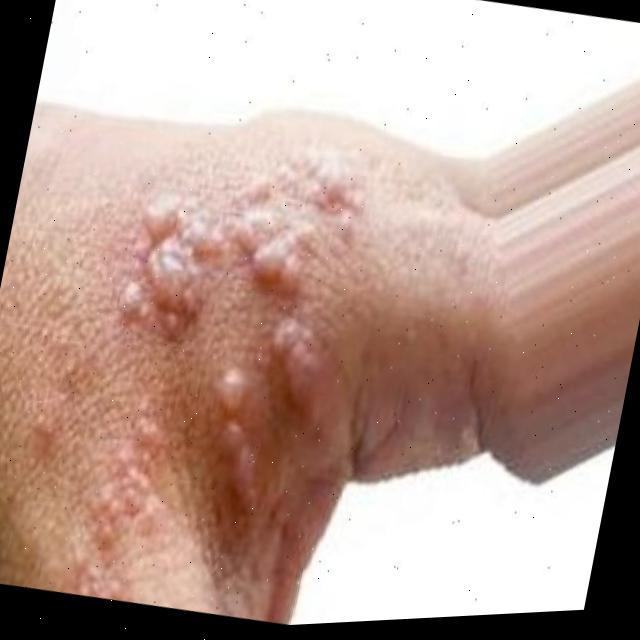Shingles: (0, 109, 370, 638)
